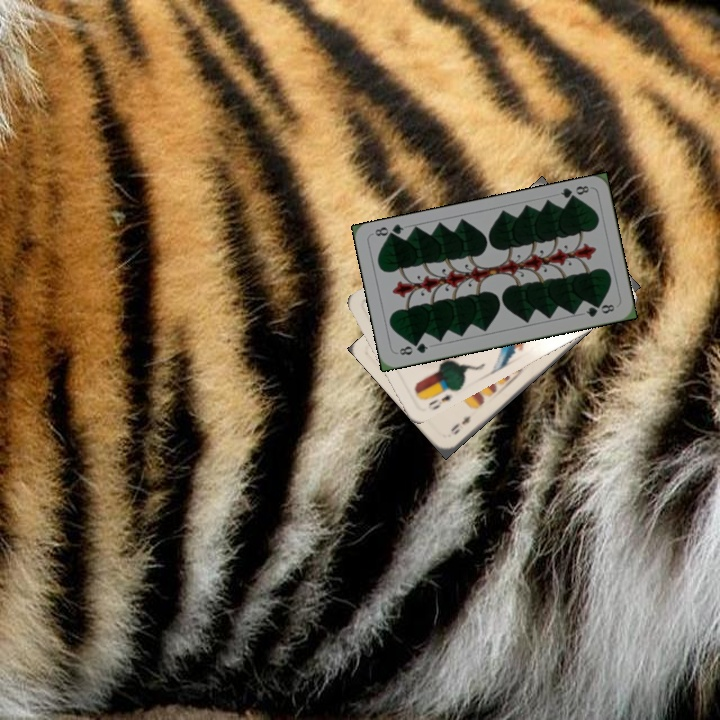E9: (446, 411, 474, 437)
EO: (425, 383, 456, 410)
G8: (556, 181, 591, 204), (395, 338, 431, 358)
